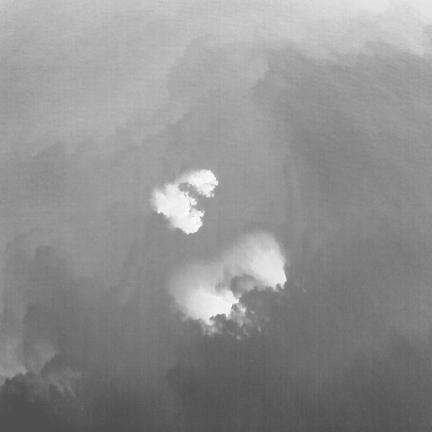flukeprints: (152, 184, 204, 233), (184, 285, 236, 321), (178, 170, 218, 197)
